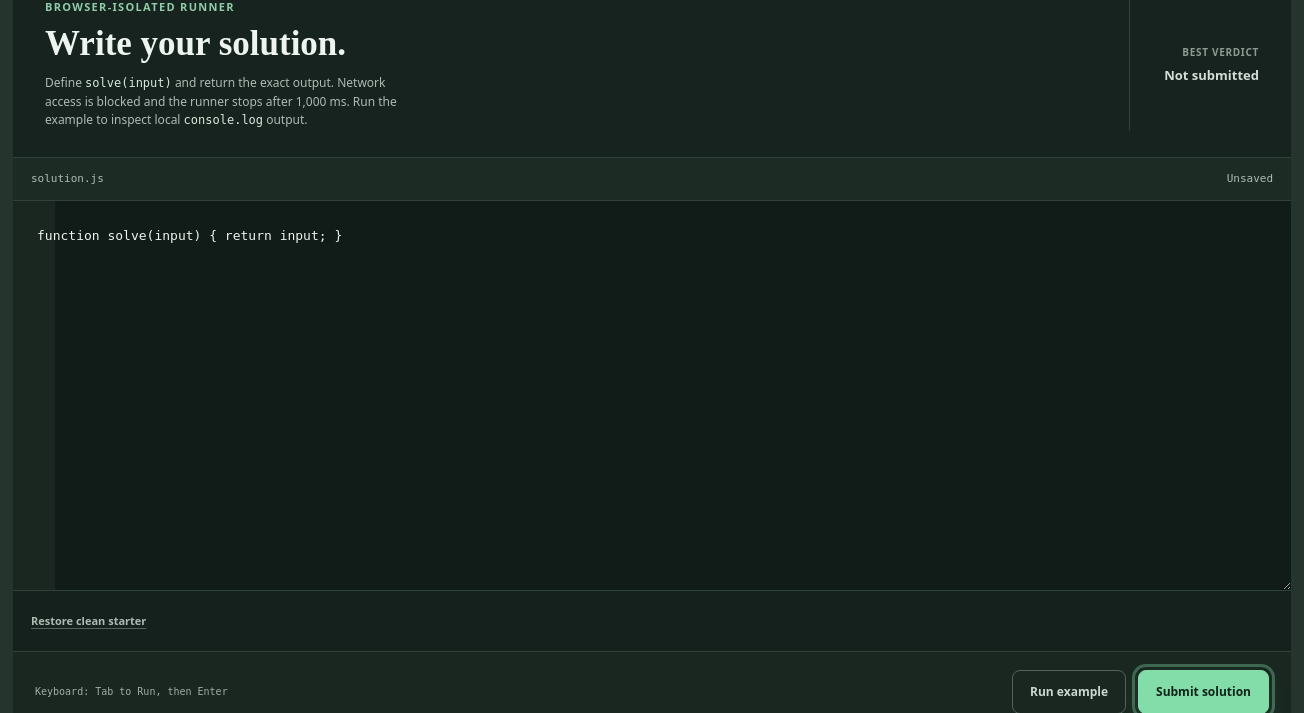
Test: CodingWorkspace › submits all outputs and renders a saved Accepted verdict
(page scrolled)
Click the button "Submit solution" at [1204, 692], box x1=1138 y1=670 x2=1269 y2=712
(page scrolled)
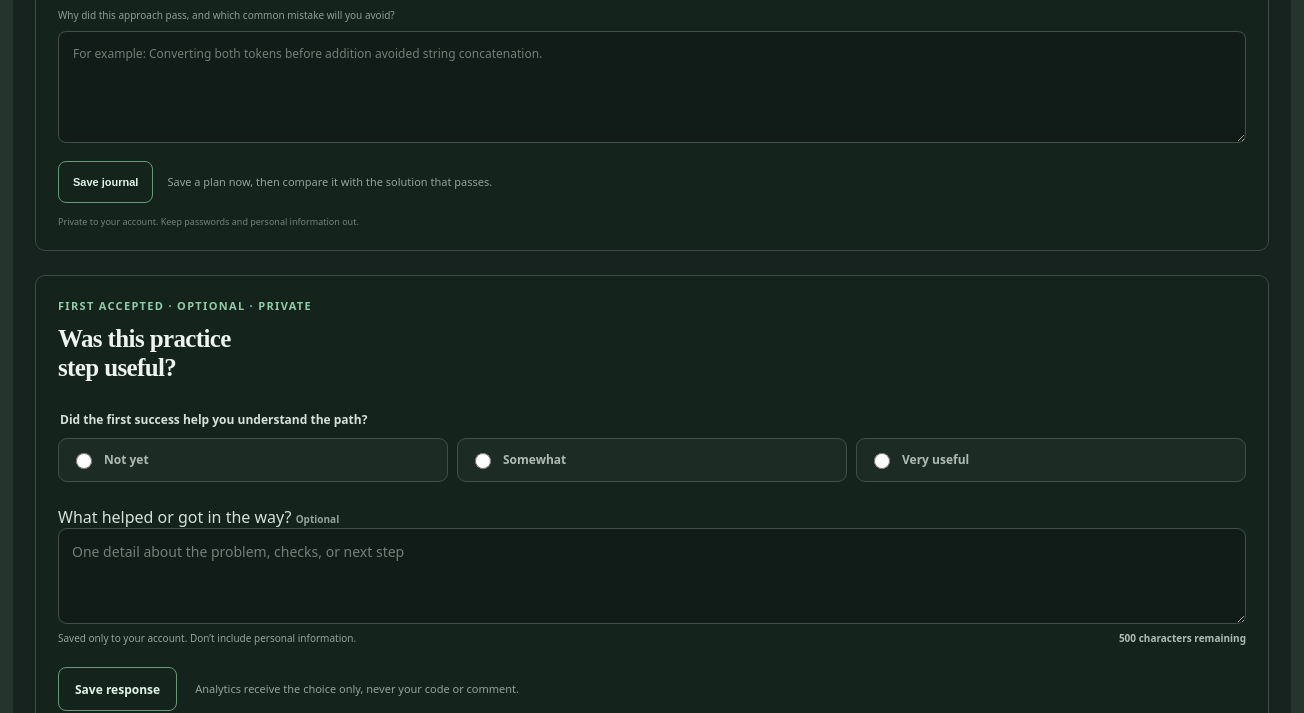
Now the text box labelled "Post-Accepted reflection" is shown, box x1=58 y1=31 x2=1246 y2=143
Now the heading "Was this practice step useful?" is shown, box x1=58 y1=325 x2=231 y2=381
